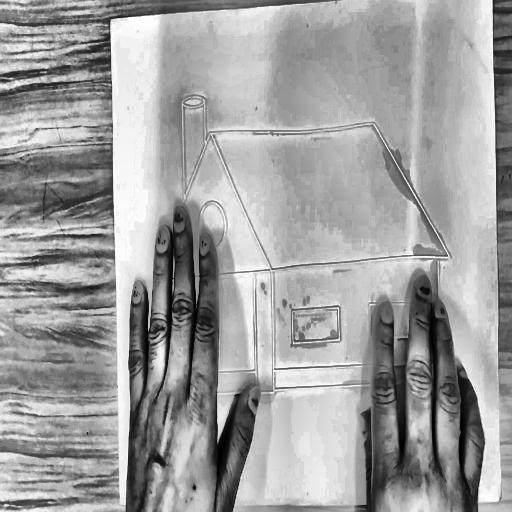bottom_left: (117, 497, 124, 510)
bottom_right: (496, 494, 504, 506)
house: (144, 54, 464, 414)
top_left: (106, 12, 117, 30)
